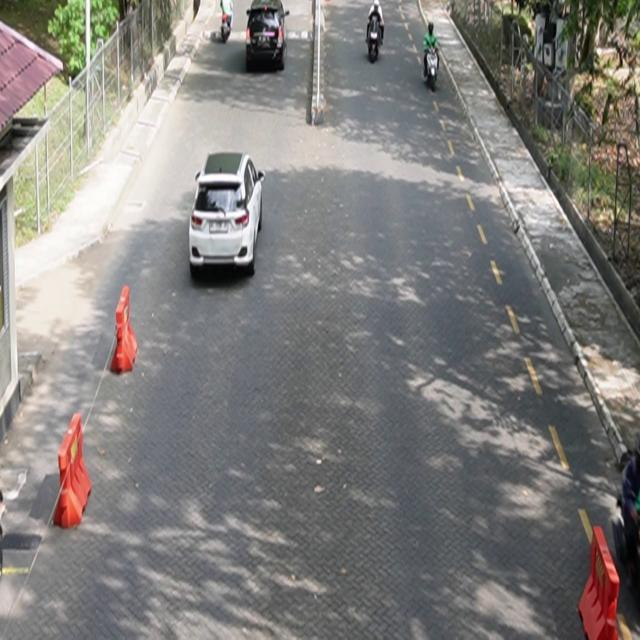car: (189, 152, 266, 277), (246, 1, 291, 72)
